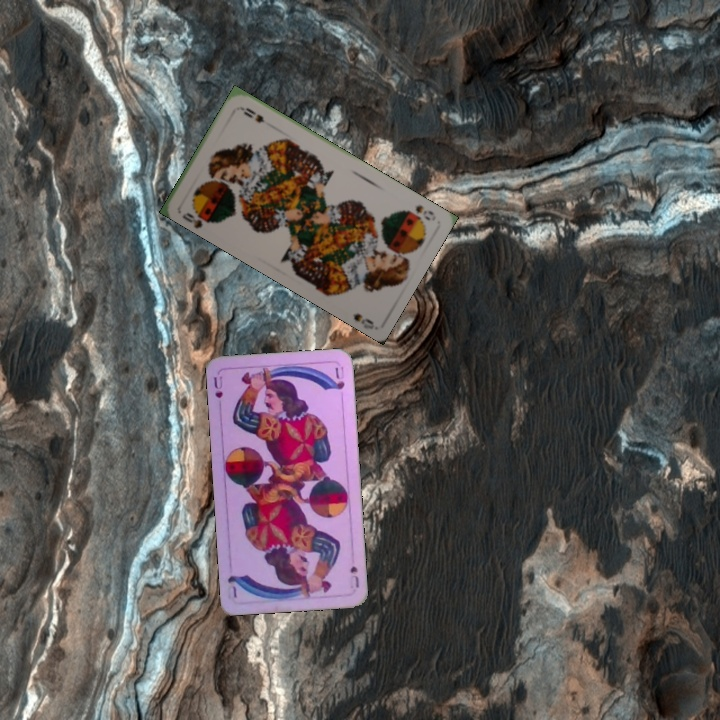SO: (178, 206, 217, 230), (404, 201, 436, 223)
SU: (346, 561, 362, 591), (210, 372, 225, 401)
